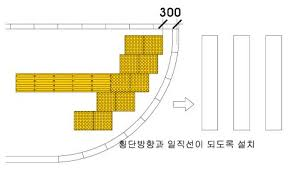guide_blocks: (14, 74, 148, 92), (73, 112, 112, 130), (120, 54, 156, 73), (97, 93, 134, 111), (124, 36, 161, 53)
